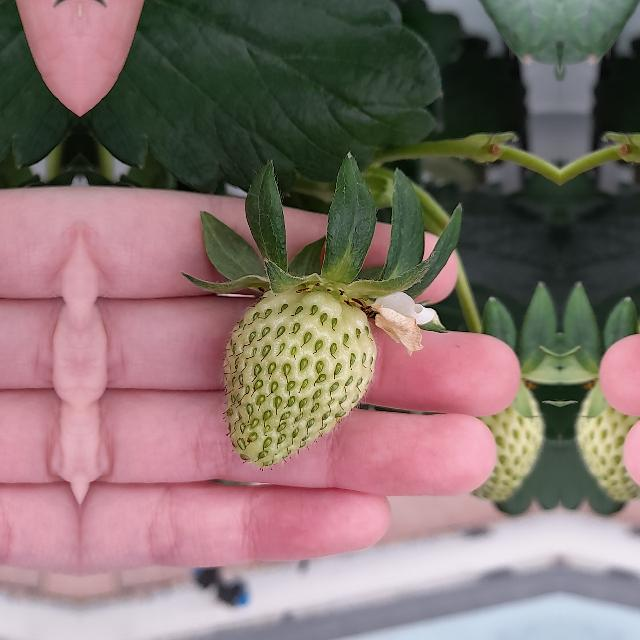Health_25: (224, 286, 376, 467)
